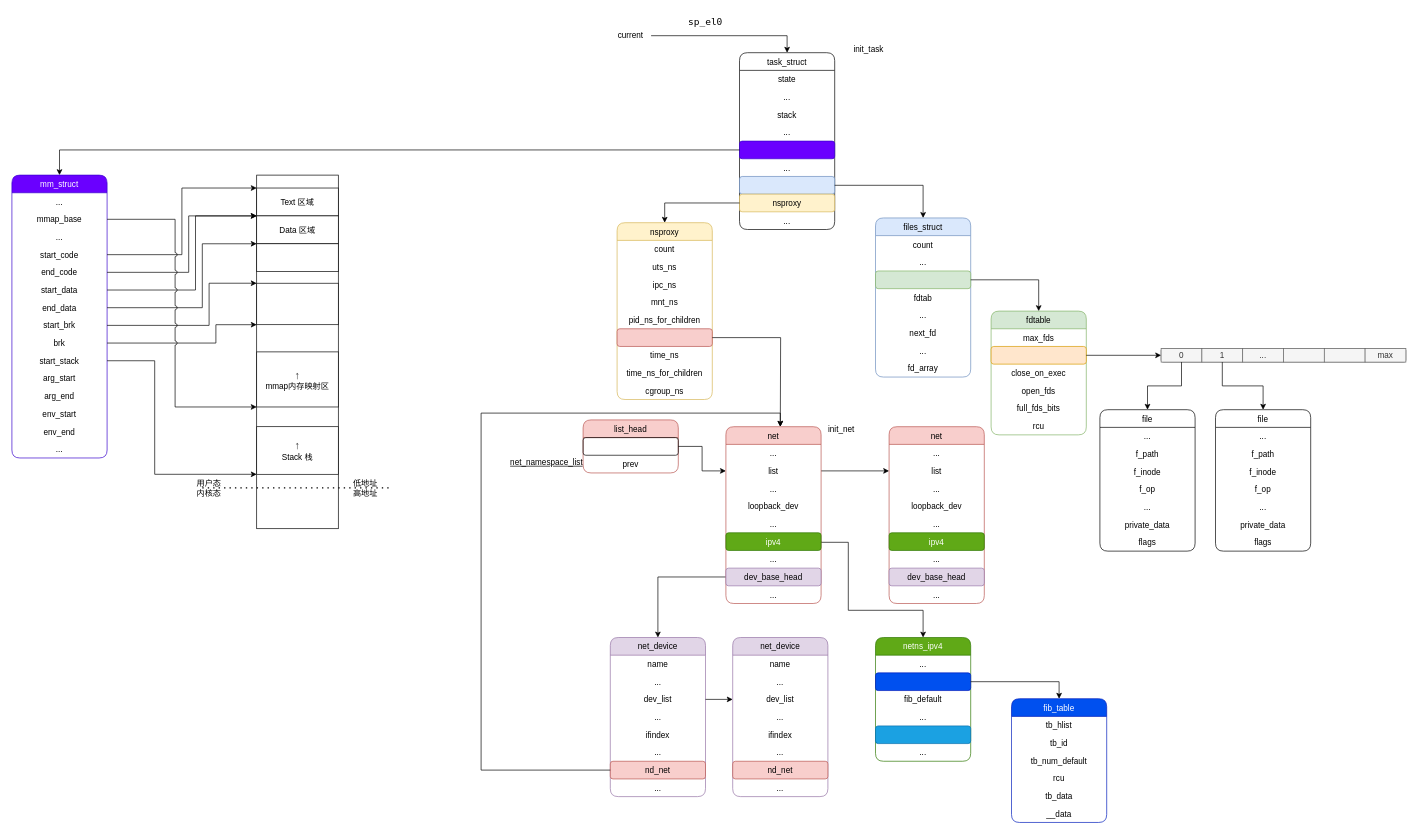
The diagram is 1418 pixels wide and 836 high, and some of its shapes have lost their labels. The shapes that lost their labels are listed below. From the top down, each one's centre as x and y in pixels, then its label:
pixel 787 149: mm
pixel 787 185: files
pixel 297 257: BSS 区域
pixel 923 279: fdt
pixel 297 304: heap 堆 ↓
pixel 664 337: net_ns
pixel 1038 355: fd
pixel 630 446: next
pixel 923 681: fib_main
pixel 923 734: fib_table_hash
